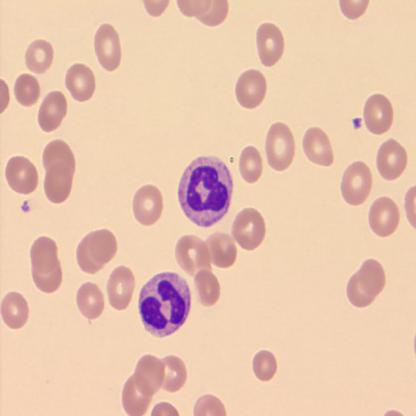Segmented neutrophil: (176, 153, 235, 228), (138, 269, 192, 340)
